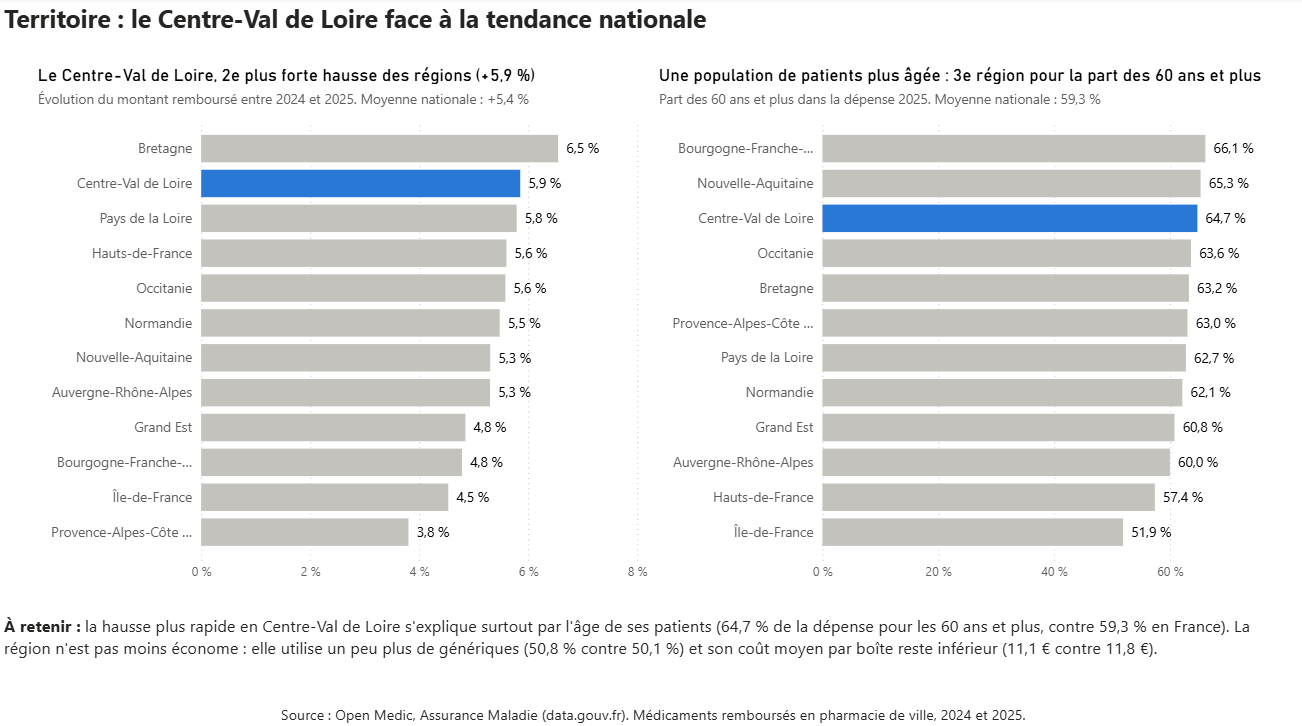

The page's visual inventory and layout, read from the dashboard file:
{"tool":"powerbi","page":{"name":"Territoire","canvas":[1280,720],"ordinal":3},"visuals":[{"type":"clusteredBarChart","title":"Le Centre-Val de Loire, 2e plus forte hausse des régions (+5,9 %)","fields":{"Category":["synthese_depenses.region"],"Y":["_Mesures.Évolution %"]},"box":[32.9,65.8,606.5,513.5],"z":5000},{"type":"textbox","box":[0,686.6,1280.3,32.9],"z":6000},{"type":"textbox","box":[0,0,1280.3,65.8],"z":7000},{"type":"clusteredBarChart","title":"Une population de patients plus âgée : 3e région pour la part des 60 ans et plus","fields":{"Category":["synthese_depenses.region"],"Y":["_Mesures.Part 60 ans et plus"]},"box":[640.9,65.8,606.5,513.5],"z":7001},{"type":"textbox","box":[0,599.4,1247.4,87.3],"z":7002}]}

Visuals, with their boxes in screenshot pixels (x1, y1, x2, y2), scaled from the page's 1280x720 canvas onto the 1302x726 screenshot:
"Le Centre-Val de Loire, 2e plus forte hausse des régions (+5,9 %)" clusteredBarChart: {"left": 33, "top": 66, "right": 650, "bottom": 584}
textbox: {"left": 0, "top": 692, "right": 1301, "bottom": 725}
textbox: {"left": 0, "top": 0, "right": 1301, "bottom": 66}
"Une population de patients plus âgée : 3e région pour la part des 60 ans et plus" clusteredBarChart: {"left": 652, "top": 66, "right": 1269, "bottom": 584}
textbox: {"left": 0, "top": 604, "right": 1269, "bottom": 692}
